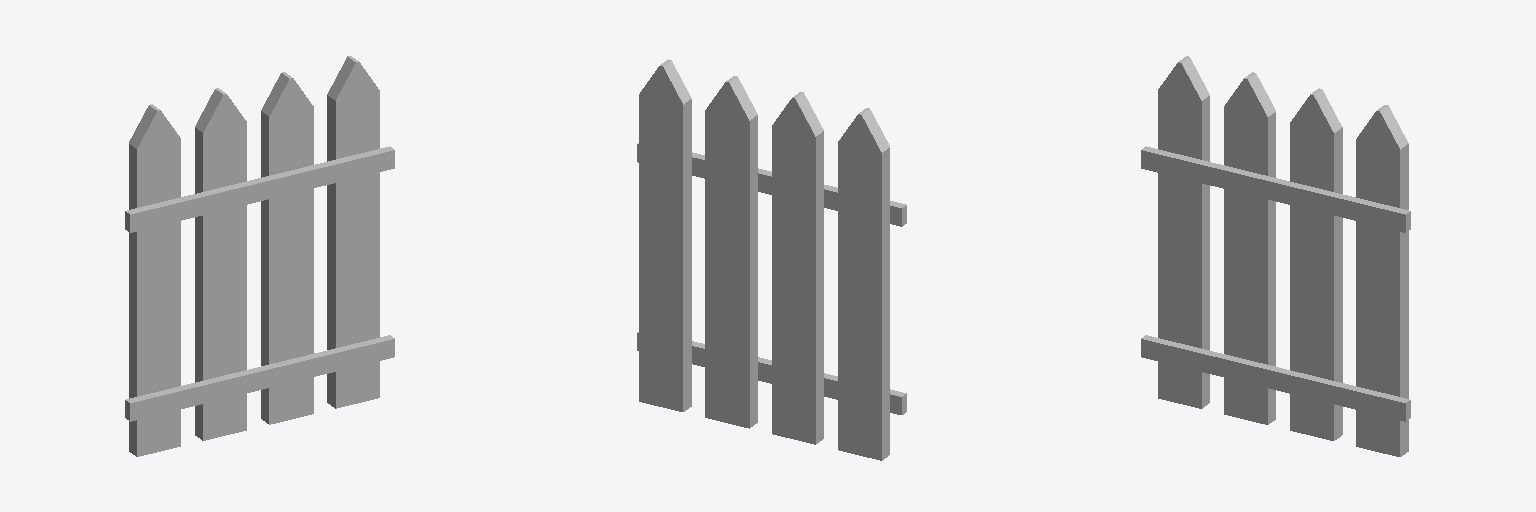
The model's file is Props_Fence.obj.
The picture shows the model from 3 angles: view 1: azimuth 30°, elevation 25°; view 2: azimuth 150°, elevation 25°; view 3: azimuth 330°, elevation 25°; orthographic projection.
Visible parts, largest first — view 1: Props_Fence; view 2: Props_Fence; view 3: Props_Fence.
Part boxes in pixels (x1,y1,x2,y2): Props_Fence: (125,56,394,456); Props_Fence: (637,59,906,460); Props_Fence: (1141,56,1410,456).
Bounding box in the file's own units: 70.87 × 87.27 × 6.3.